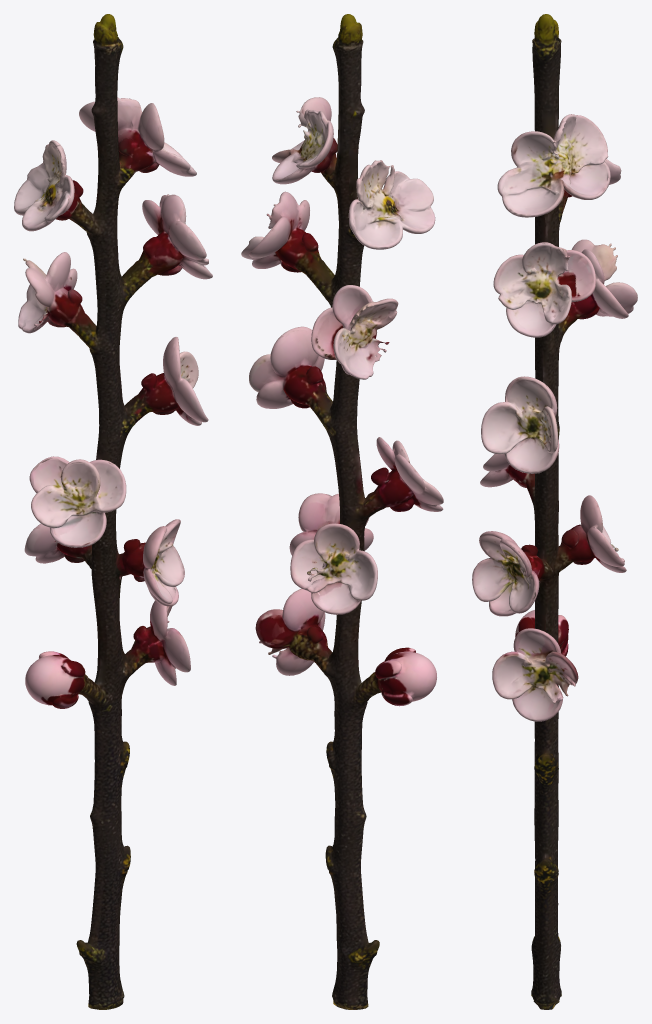
The model's file is meihua.glb.
The picture shows the model from 3 angles, left to right: view 1: azimuth 30°, elevation 25°; view 2: azimuth 150°, elevation 25°; view 3: azimuth 270°, elevation 25°; orthographic projection.
Parts seen in each view (by area): view 1: node_0; view 2: node_0; view 3: node_0.
Part boxes in pixels (x1,y1,x2,y2): node_0: [14, 14, 212, 1009]; node_0: [241, 14, 443, 1009]; node_0: [472, 14, 637, 1009].
Size of the model in its own units: 0.232 by 1.2 by 0.1813.
Materials: 1 (1 with a texture image).
